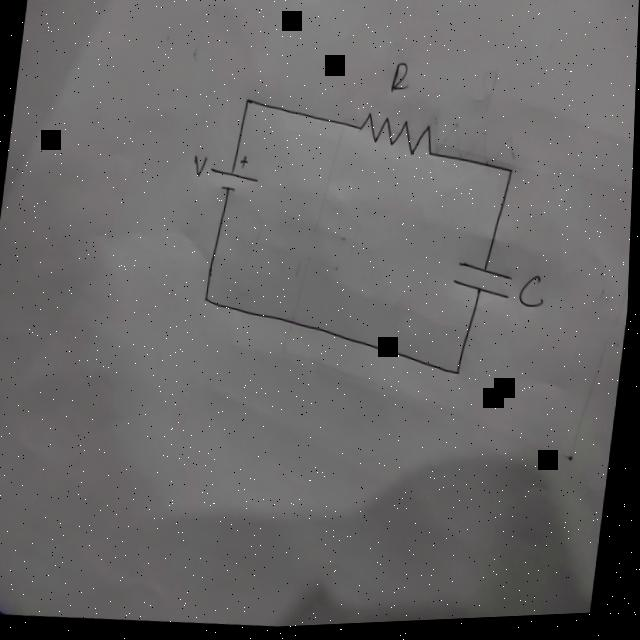capacitor: (451, 259, 519, 306)
junction: (202, 291, 214, 307), (243, 95, 254, 109), (507, 169, 516, 181), (455, 371, 464, 382)
resistor: (354, 106, 441, 166)
source: (207, 152, 262, 198)
text: (519, 278, 549, 314), (388, 59, 412, 98), (192, 154, 210, 180)
